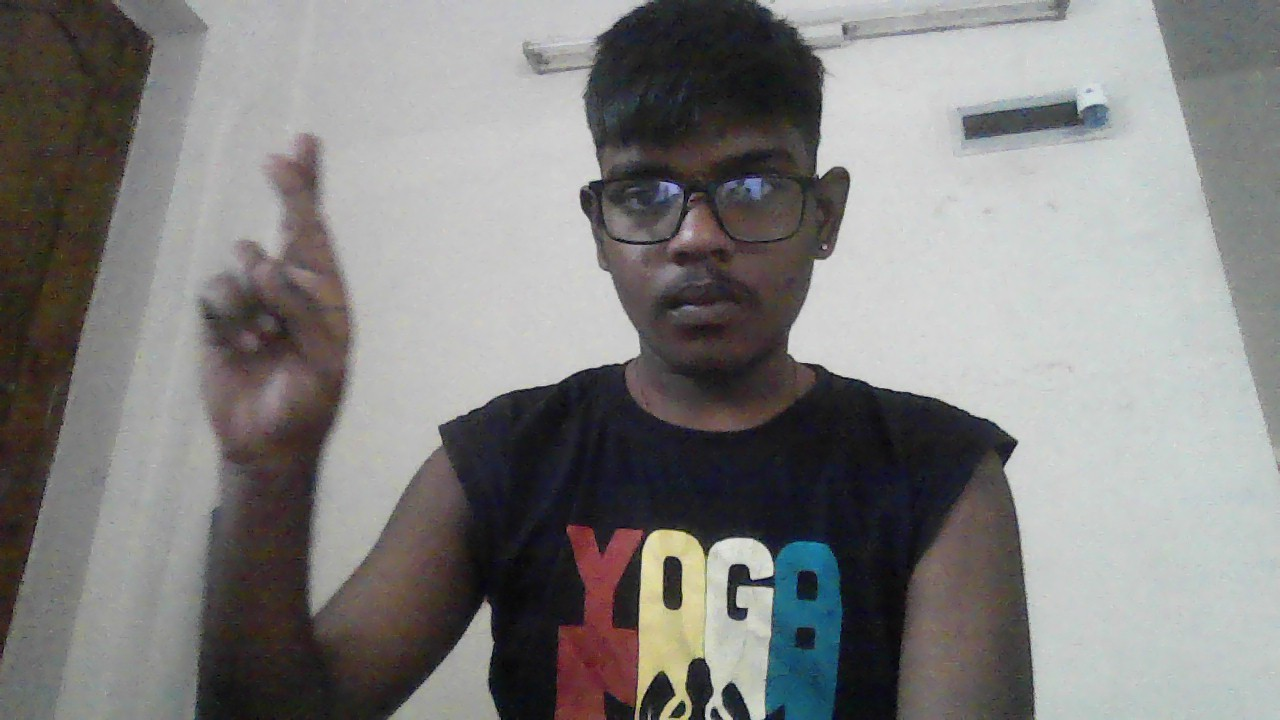R: (196, 132, 354, 465)
